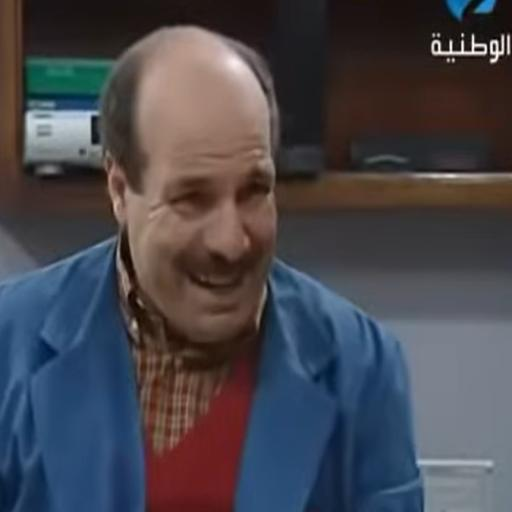beji_matrix: (99, 25, 282, 343)
